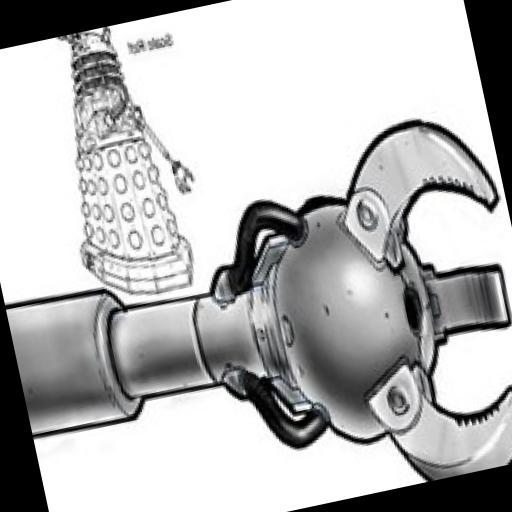dalek: (30, 14, 221, 308)
